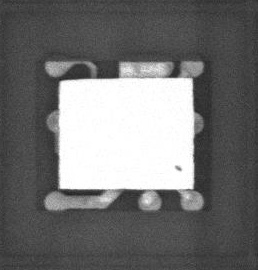DIE_INK: (165, 172, 174, 180)
